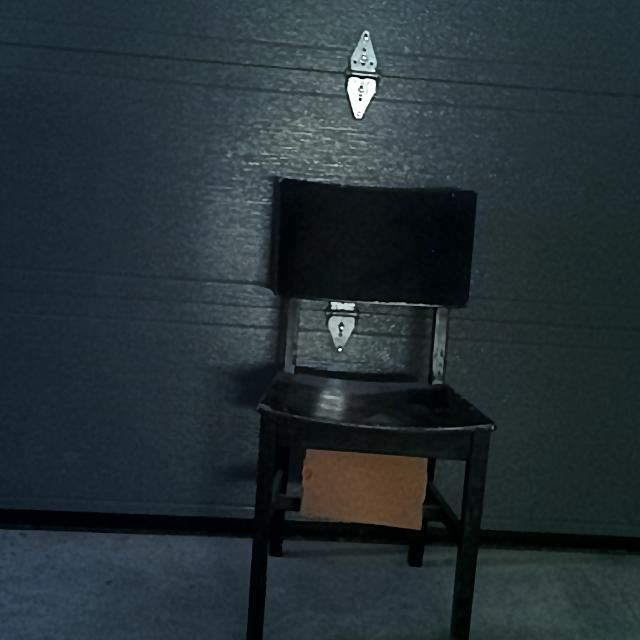box: (303, 455, 425, 523)
